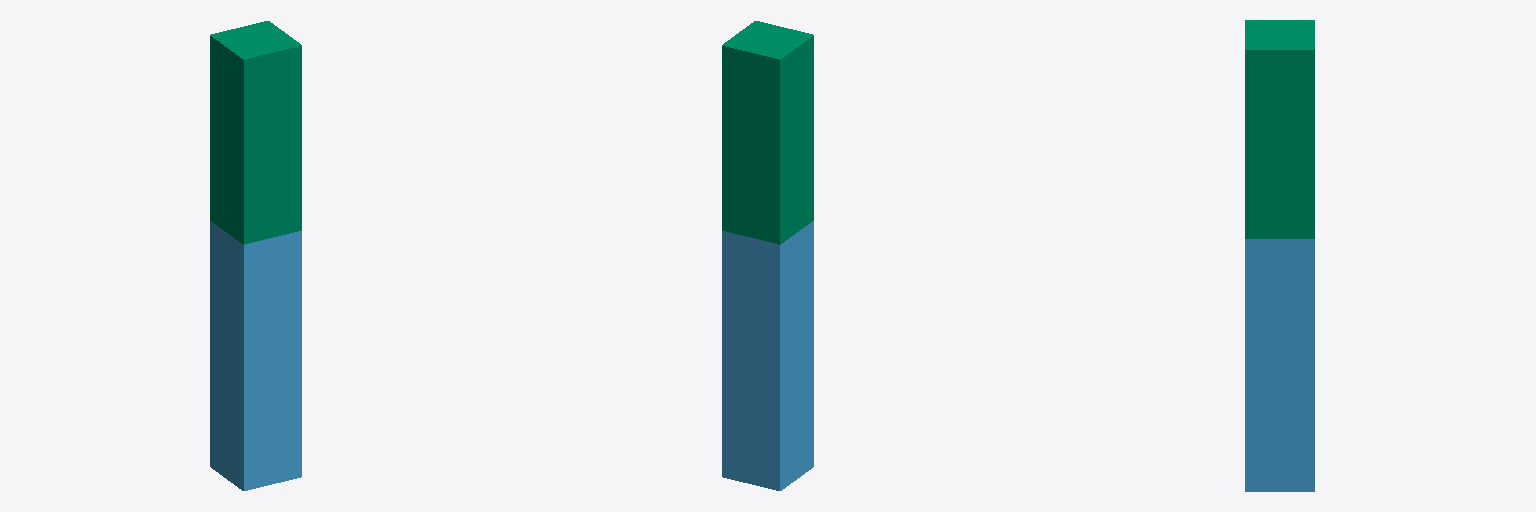
robot.urdf — simple_arm:
<?xml version="1.0"?>
<robot name="simple_arm">

  <!-- Base link -->
  <link name="base_link"/>

  <!-- First joint and link -->
  <joint name="joint1" type="revolute">
    <parent link="base_link"/>
    <child link="link1"/>
    <origin xyz="0 0 0.1" rpy="0 0 0"/>
    <axis xyz="0 0 1"/>
    <limit lower="-3.14" upper="3.14" effort="10" velocity="1.0"/>
  </joint>

  <link name="link1">
    <visual>
      <geometry>
        <box size="0.1 0.1 0.4"/>
      </geometry>
      <origin xyz="0 0 0.2" rpy="0 0 0"/>
    </visual>
  </link>

  <!-- Second joint and link -->
  <joint name="joint2" type="revolute">
    <parent link="link1"/>
    <child link="link2"/>
    <origin xyz="0 0 0.4" rpy="0 0 0"/>
    <axis xyz="0 1 0"/>
    <limit lower="-1.57" upper="1.57" effort="10" velocity="1.0"/>
  </joint>

  <link name="link2">
    <visual>
      <geometry>
        <box size="0.1 0.1 0.3"/>
      </geometry>
      <origin xyz="0 0 0.15" rpy="0 0 0"/>
    </visual>
  </link>

  <!-- End-effector -->
  <joint name="ee_fixed_joint" type="fixed">
    <parent link="link2"/>
    <child link="ee_link"/>
    <origin xyz="0 0 0.3" rpy="0 0 0"/>
  </joint>

  <link name="ee_link"/>

</robot>

--- What the picture shows (computed from the rendered views, not written in the file) ---
The picture shows the robot from 3 angles, left to right: view 1: azimuth 30°, elevation 25°; view 2: azimuth 150°, elevation 25°; view 3: azimuth 270°, elevation 25°; orthographic projection.
Model simple_arm with 4 links and 3 joints (2 revolute, 1 fixed), rooted at base_link, posed every joint at zero.
Links seen in each view (by area): view 1: link1, link2; view 2: link1, link2; view 3: link1, link2.
Link boxes in pixels (x1,y1,x2,y2): link1: (210, 221, 301, 490); link2: (210, 21, 301, 244); link1: (722, 221, 813, 490); link2: (722, 21, 813, 244); link1: (1245, 239, 1314, 491); link2: (1245, 20, 1314, 238).
Bounding box of the posed robot: 0.1 × 0.1 × 0.7 m (x, y, z).
Geometry: primitives only (box / cylinder / sphere), no mesh files.
